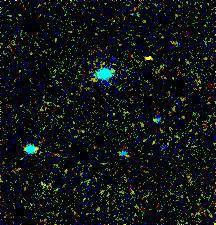star: (136, 42, 166, 72)
